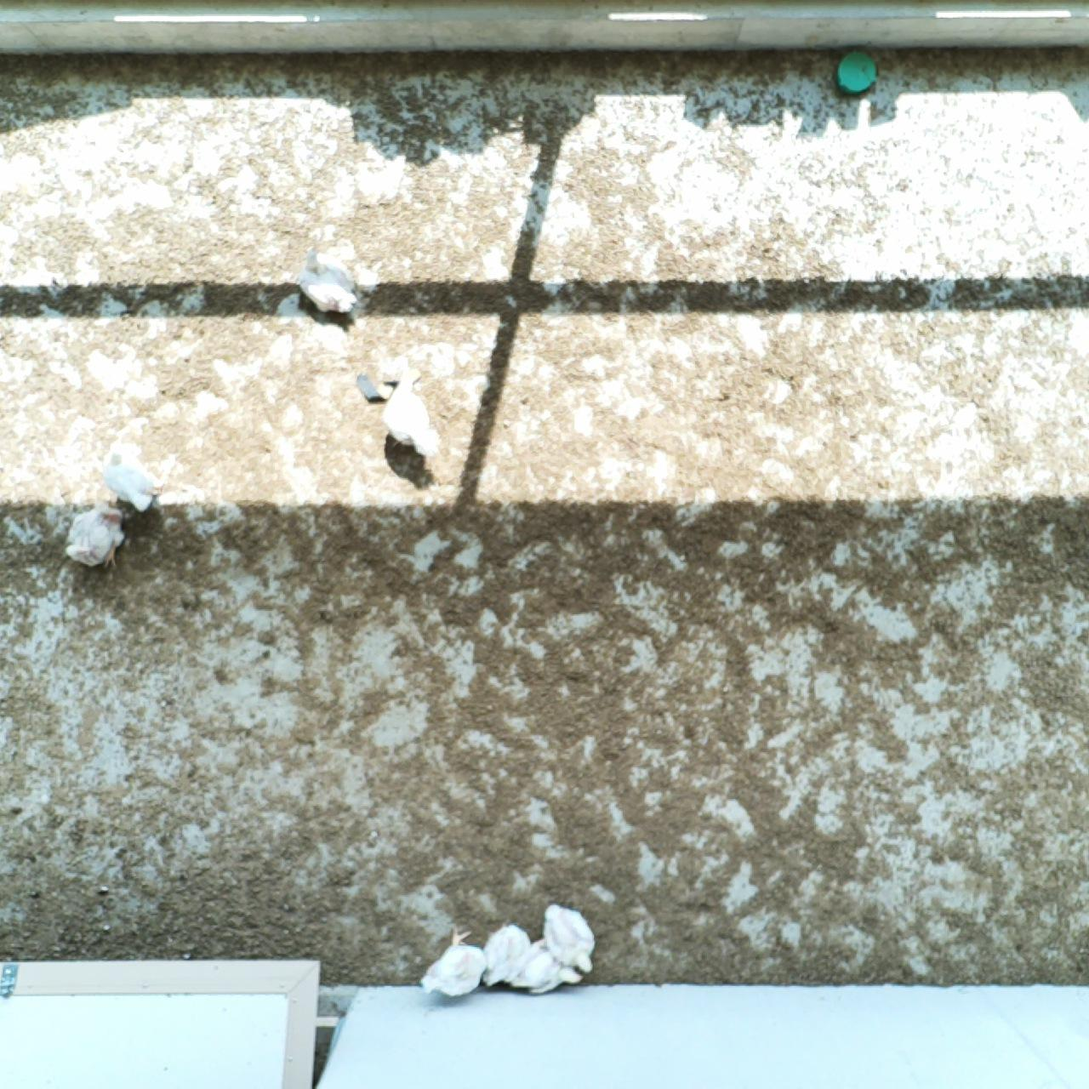chicken: (372, 362, 446, 465), (414, 924, 491, 1000), (61, 497, 130, 575), (93, 440, 160, 517), (508, 935, 585, 1001), (538, 896, 602, 974), (477, 917, 531, 992), (299, 244, 362, 298), (290, 272, 355, 320)
